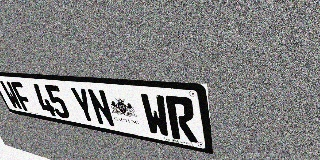4: (30, 83, 58, 117)
5: (44, 84, 72, 119)
F: (9, 81, 36, 113)
N: (86, 88, 116, 128)
R: (165, 95, 198, 143)
W: (139, 93, 172, 138), (0, 80, 24, 111)
Y: (69, 87, 98, 124)
